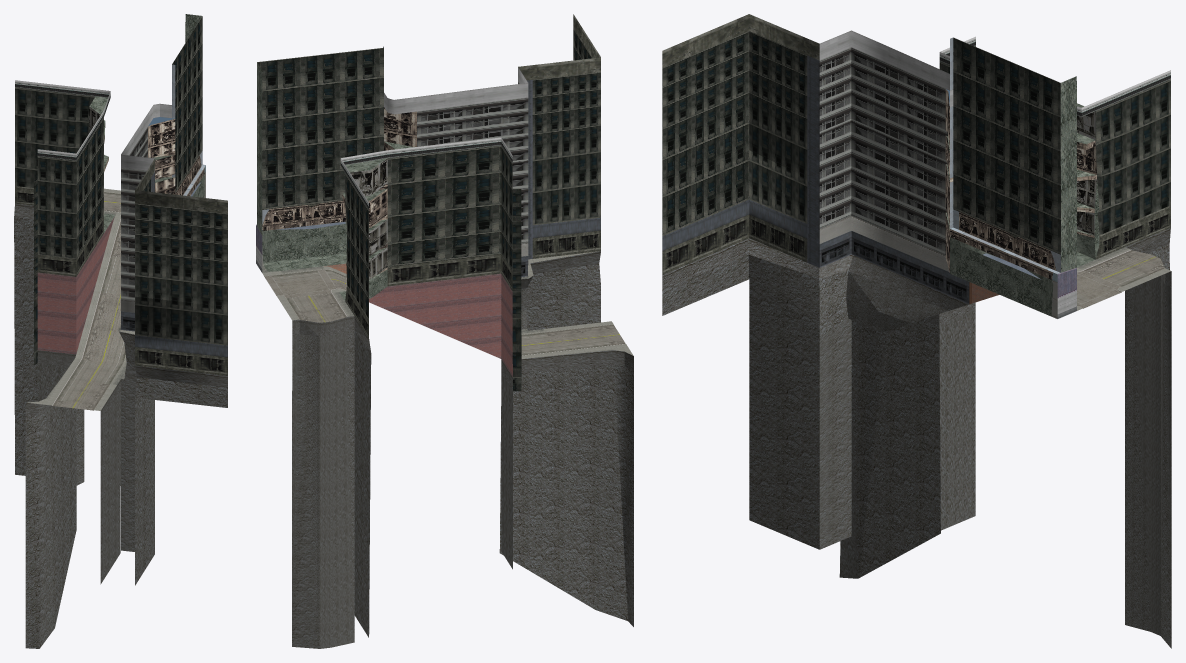
File: STG0100_OS_10.fbx
The picture shows the model from 3 angles, left to right: view 1: azimuth 30°, elevation 25°; view 2: azimuth 150°, elevation 25°; view 3: azimuth 270°, elevation 25°; orthographic projection. The views are drawn at different scales.
Visible parts, largest first — view 1: STG0100_OS_10_s0100_nn002; view 2: STG0100_OS_10_s0100_nn002; view 3: STG0100_OS_10_s0100_nn002.
Boxes of the visible parts, x1,y1,x2,y2 form: STG0100_OS_10_s0100_nn002: (14,14,227,648); STG0100_OS_10_s0100_nn002: (256,14,633,648); STG0100_OS_10_s0100_nn002: (662,14,1171,648).
Size of the model in its own units: 847 by 1577 by 1119.
